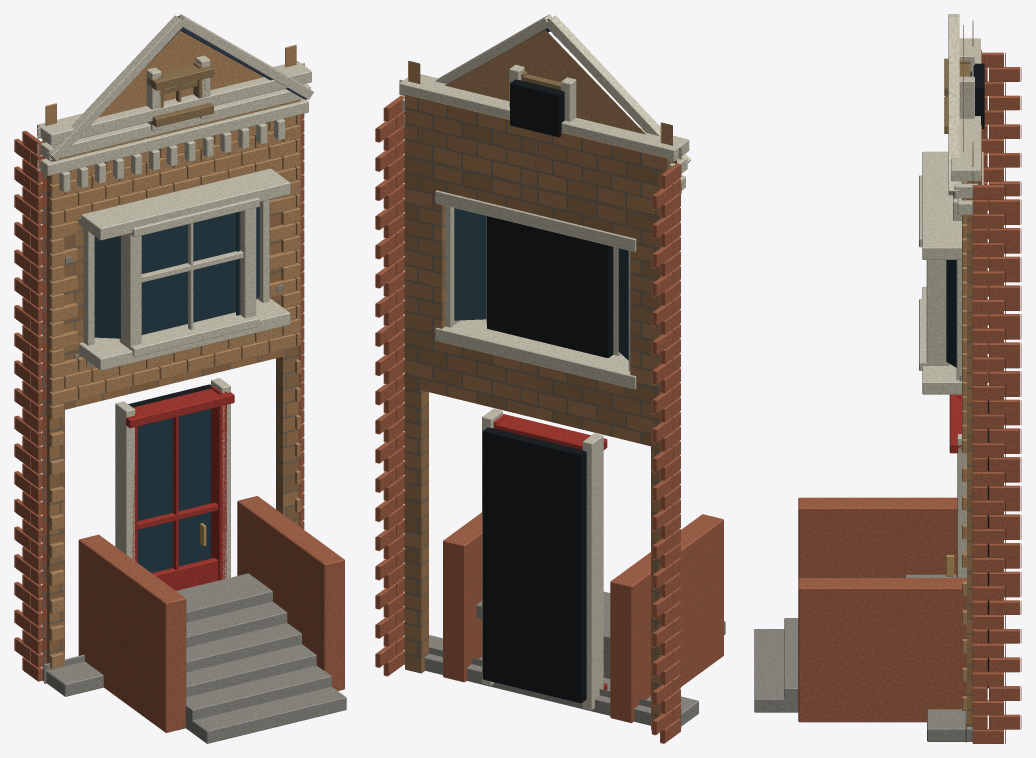
File: VICT2B_lod0.glb
The picture shows the model from 3 angles, left to right: view 1: azimuth 30°, elevation 25°; view 2: azimuth 150°, elevation 25°; view 3: azimuth 270°, elevation 25°; orthographic projection. The views are drawn at different scales.
Visible parts, largest first — view 1: VICT2B_FRONT_LOD0; view 2: VICT2B_FRONT_LOD0; view 3: VICT2B_FRONT_LOD0.
Boxes of the visible parts, x1,y1,x2,y2 form: VICT2B_FRONT_LOD0: (14,14,346,743); VICT2B_FRONT_LOD0: (375,14,725,743); VICT2B_FRONT_LOD0: (754,14,1021,743).
Size of the model in its own units: 3.44 by 7.86 by 2.88.
Materials: 17 (14 with a texture image).
